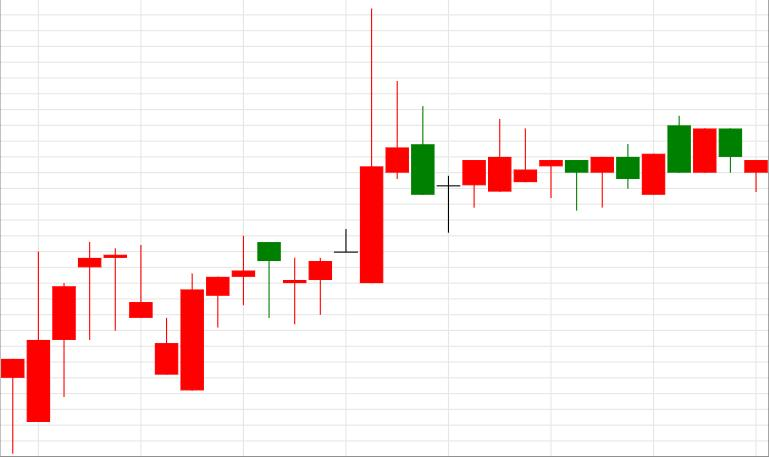shooting_star_fall: (155, 9, 409, 391)
